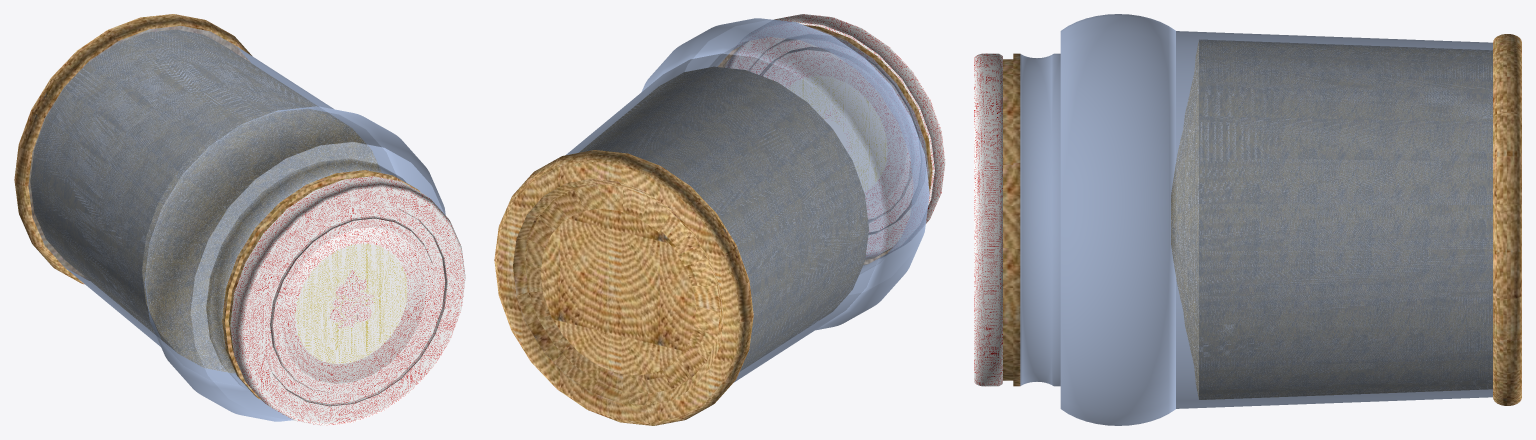
Rendered from model_scale.obj.
The picture shows the model from 3 angles, left to right: view 1: azimuth 30°, elevation 25°; view 2: azimuth 150°, elevation 25°; view 3: azimuth 270°, elevation 25°; orthographic projection. The views are drawn at different scales.
Visible parts, largest first — view 1: mesh30_mesh30-geometry, mesh1_mesh1-geometry, mesh27_mesh27-geometry; view 2: mesh30_mesh30-geometry, mesh1_mesh1-geometry, mesh27_mesh27-geometry, mesh31_mesh31-geometry; view 3: mesh30_mesh30-geometry, mesh1_mesh1-geometry, mesh27_mesh27-geometry.
Boxes of the visible parts, bbox=[...] form: mesh30_mesh30-geometry: bbox=[14, 14, 445, 421]; mesh1_mesh1-geometry: bbox=[30, 29, 381, 372]; mesh27_mesh27-geometry: bbox=[230, 176, 465, 425]; mesh30_mesh30-geometry: bbox=[494, 18, 932, 425]; mesh1_mesh1-geometry: bbox=[579, 67, 868, 371]; mesh27_mesh27-geometry: bbox=[725, 14, 945, 258]; mesh31_mesh31-geometry: bbox=[540, 208, 695, 375]; mesh30_mesh30-geometry: bbox=[1003, 14, 1521, 425]; mesh1_mesh1-geometry: bbox=[1171, 40, 1492, 399]; mesh27_mesh27-geometry: bbox=[974, 53, 1002, 386].
Size of the model in its own units: 0.0826 by 0.0826 by 0.1095.
